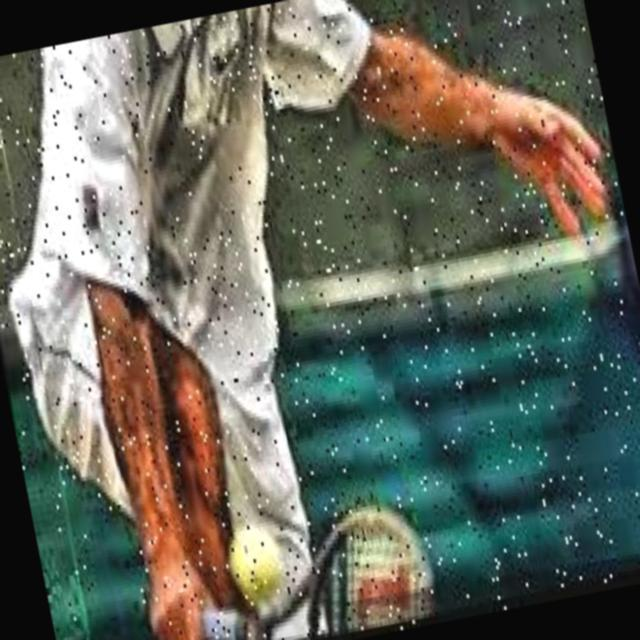tennis-ball: (220, 518, 285, 612)
